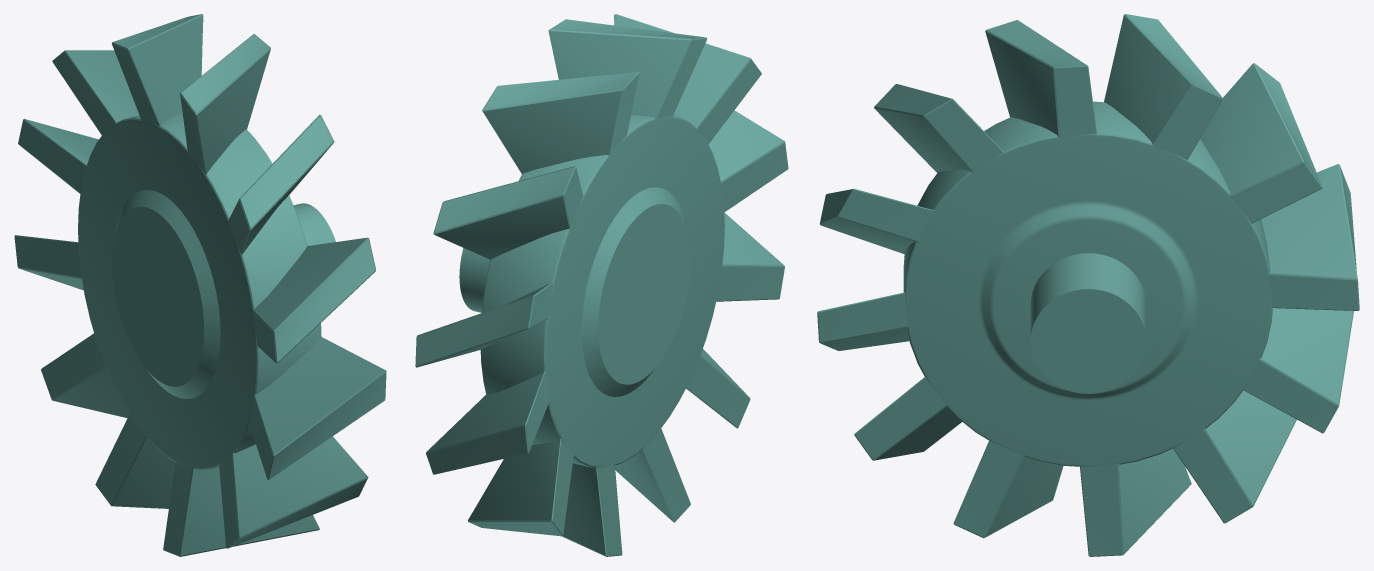
Rendered from jushan02.FBX.
3 renders of one model, left to right at view 1: azimuth 30°, elevation 25°; view 2: azimuth 150°, elevation 25°; view 3: azimuth 270°, elevation 25°, orthographic. The views are drawn at different scales.
Parts seen in each view (by area): view 1: fj-022; view 2: fj-022; view 3: fj-022.
Part boxes in pixels (bbox=[...]): fj-022: bbox=[14, 14, 386, 556]; fj-022: bbox=[415, 14, 788, 556]; fj-022: bbox=[817, 14, 1359, 556].
Size of the model in its own units: 12.49 by 33.92 by 33.92.
1 material, 1 textured.
